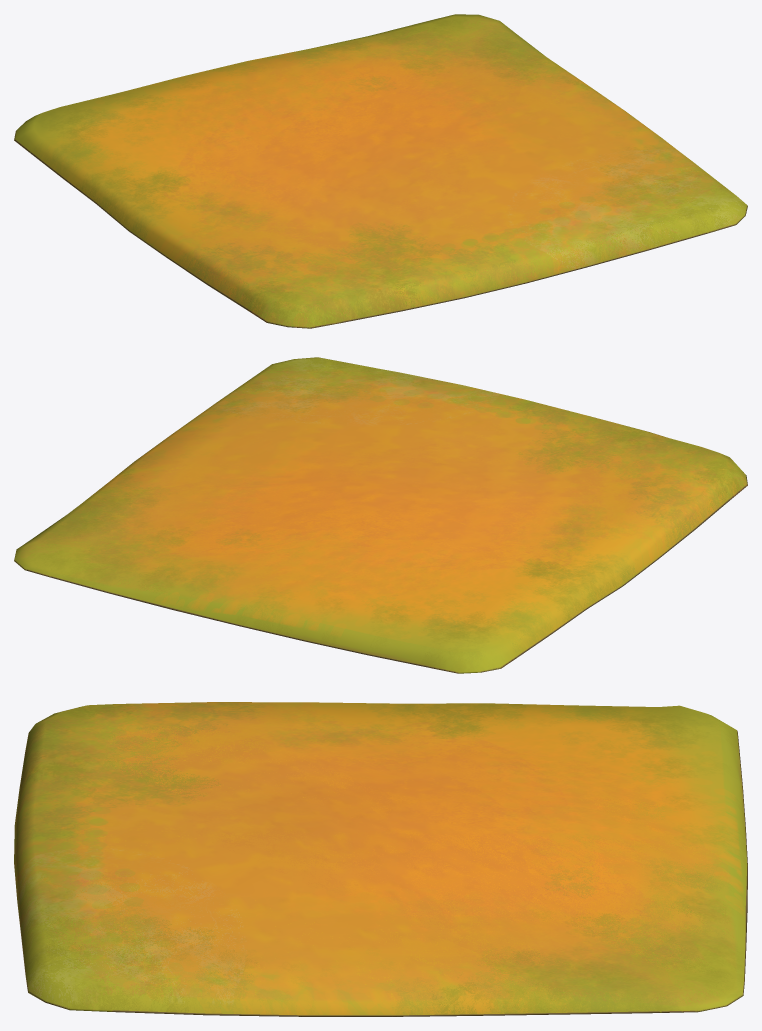
The model's file is field_dry.fbx.
3 views of the same model, one above another, from view 1: azimuth 30°, elevation 25°; view 2: azimuth 150°, elevation 25°; view 3: azimuth 270°, elevation 25° (orthographic). The views are drawn at different scales.
Parts seen in each view (by area): view 1: 立方体.005; view 2: 立方体.005; view 3: 立方体.005.
Boxes of the visible parts, x1=… form: 立方体.005: x1=14, y1=14, x2=747, y2=328; 立方体.005: x1=14, y1=357, x2=747, y2=673; 立方体.005: x1=14, y1=702, x2=747, y2=1016.
Size of the model in its own units: 70.84 by 4.18 by 72.82.
1 material, 1 textured.
